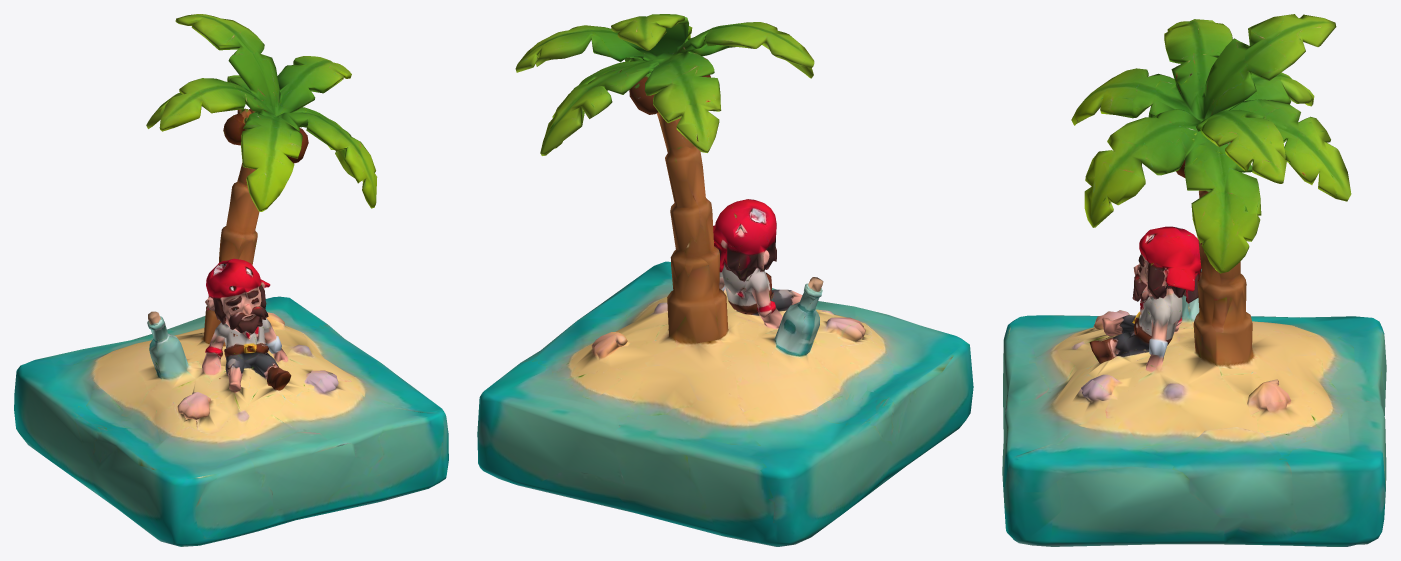
File: m_castaway.glb
3 renders of one model, left to right at view 1: azimuth 30°, elevation 25°; view 2: azimuth 150°, elevation 25°; view 3: azimuth 270°, elevation 25°, orthographic. The views are drawn at different scales.
Bounding box in the file's own units: 0.9944 × 1.34 × 0.9981.
1 material, 1 textured.
